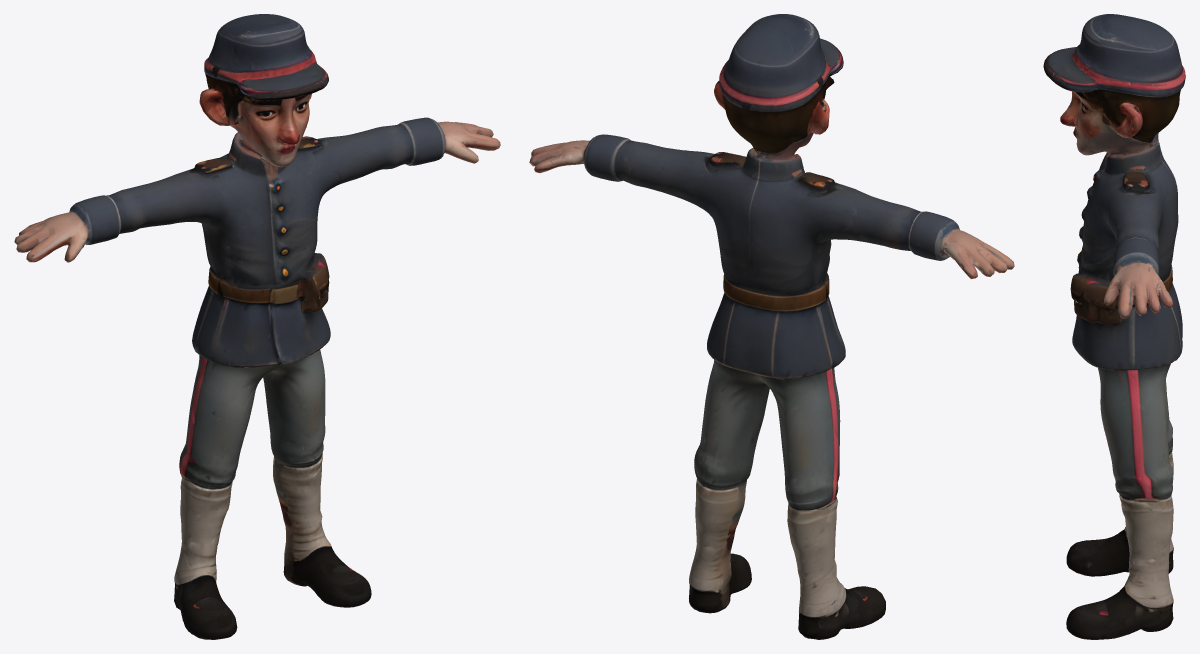
File: soldado_2.glb
The picture shows the model from 3 angles, left to right: view 1: azimuth 30°, elevation 25°; view 2: azimuth 150°, elevation 25°; view 3: azimuth 270°, elevation 25°; orthographic projection.
Visible parts, largest first — view 1: soldado_2; view 2: soldado_2; view 3: soldado_2.
Boxes of the visible parts, box(x1,y1,x2,y2) form: soldado_2: box(14, 14, 500, 639); soldado_2: box(529, 14, 1014, 639); soldado_2: box(1043, 14, 1185, 639).
Bounding box in the file's own units: 1.45 × 1.7 × 0.3778.
1 material, 1 textured.
